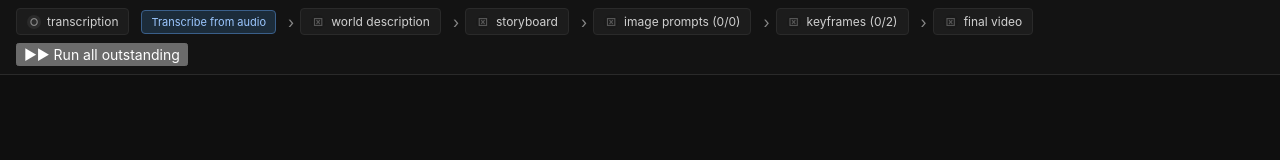
Test: PipelinePanel › clicking a blocked segment opens a tooltip naming the prereq
Click the button "⌧ storyboard".
click(517, 22)  # box left=465, top=8, right=569, bottom=35
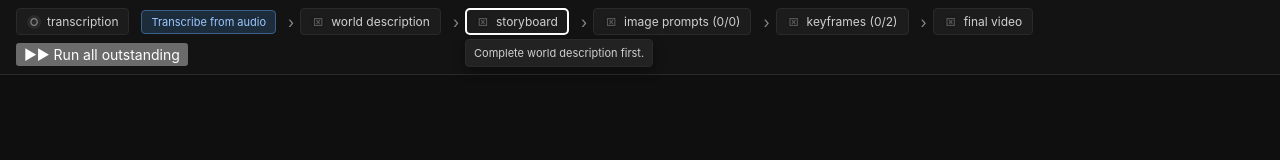
Check: the tooltip "Complete world description first." is shown, box left=465, top=39, right=653, bottom=67
